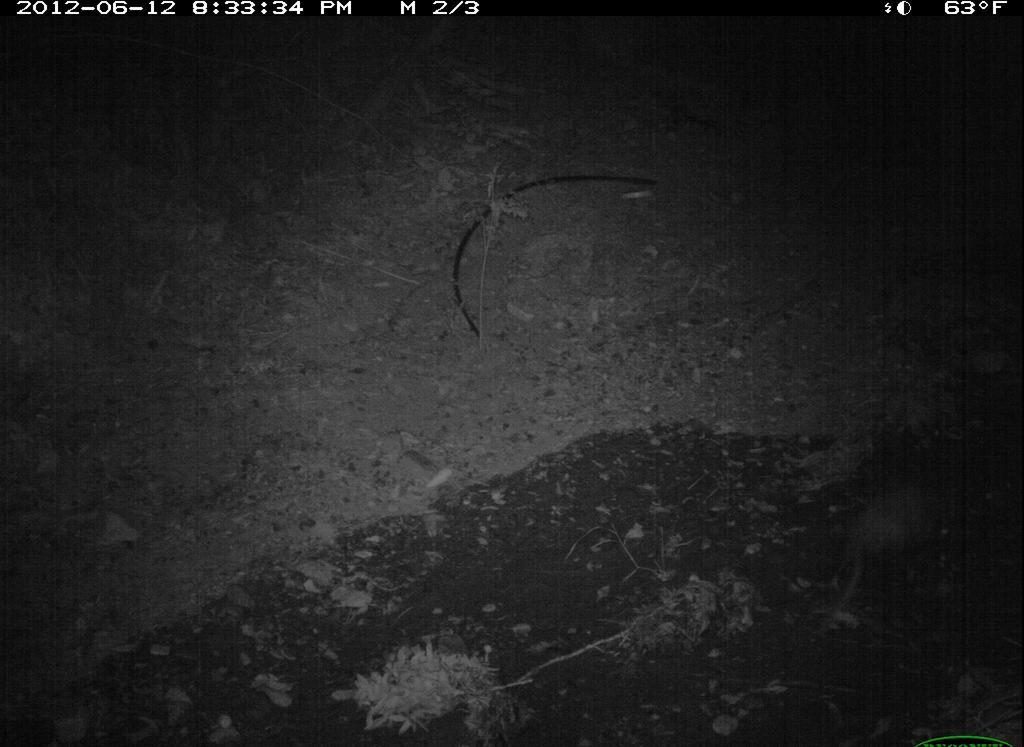opossum: (812, 474, 980, 623)
